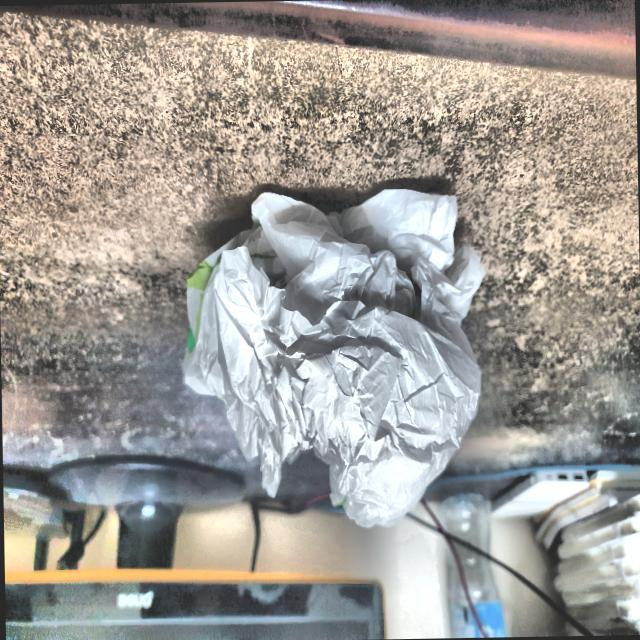plastic bag: (173, 152, 508, 540)
